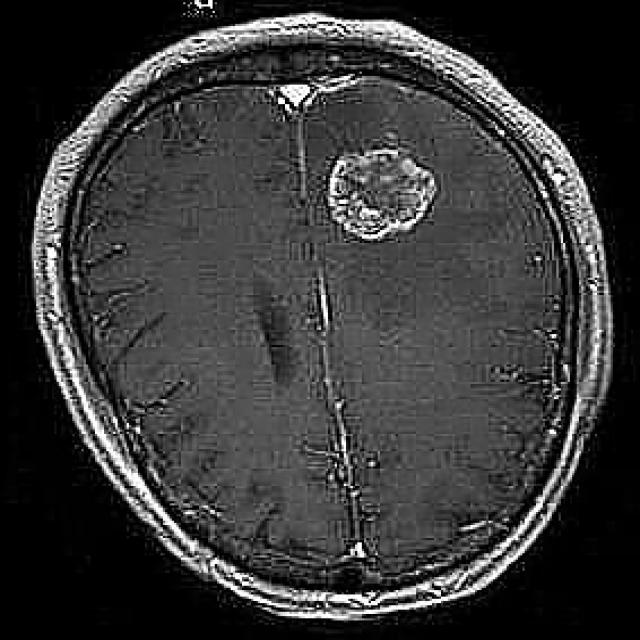Tumor-Cell: (322, 138, 444, 250)
